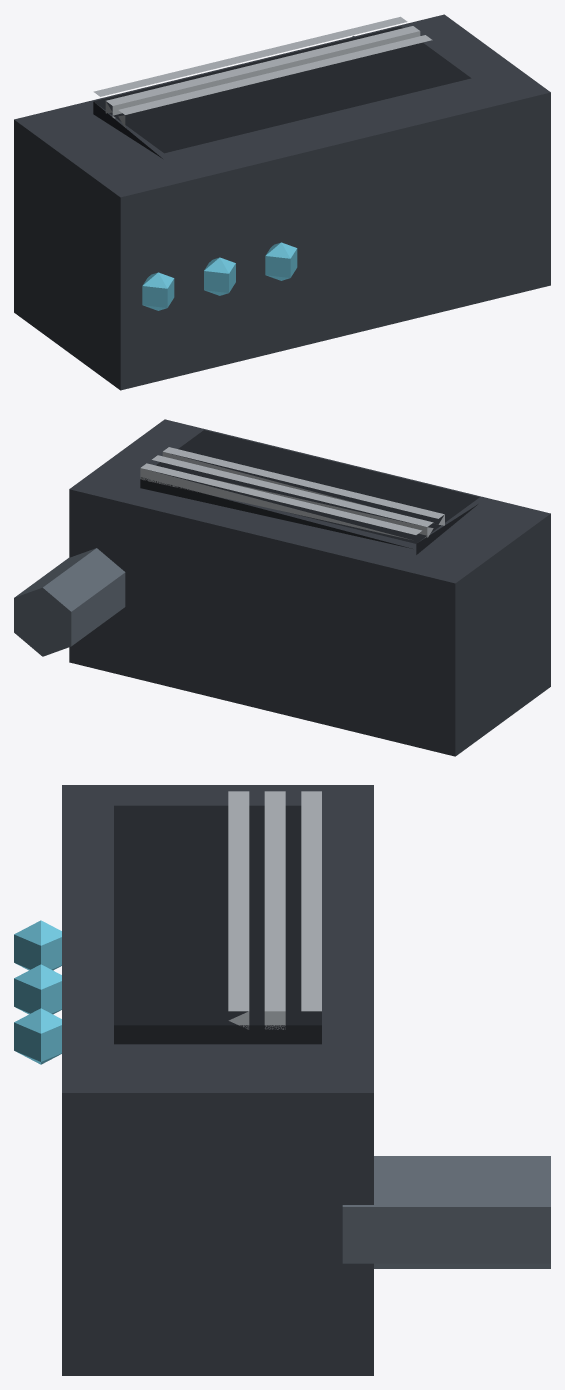
File: droid-vocoder-improved.lod.glb
3 views of the same model, one above another, from view 1: azimuth 30°, elevation 25°; view 2: azimuth 150°, elevation 25°; view 3: azimuth 270°, elevation 25° (orthographic). The views are drawn at different scales.
Visible parts, largest first — view 1: m; view 2: m; view 3: m.
Boxes of the visible parts, bbox=[...] form: m: bbox=[14, 14, 550, 390]; m: bbox=[14, 419, 550, 756]; m: bbox=[14, 785, 550, 1375].
Size of the model in its own units: 0.1 by 0.0484 by 0.0735.
